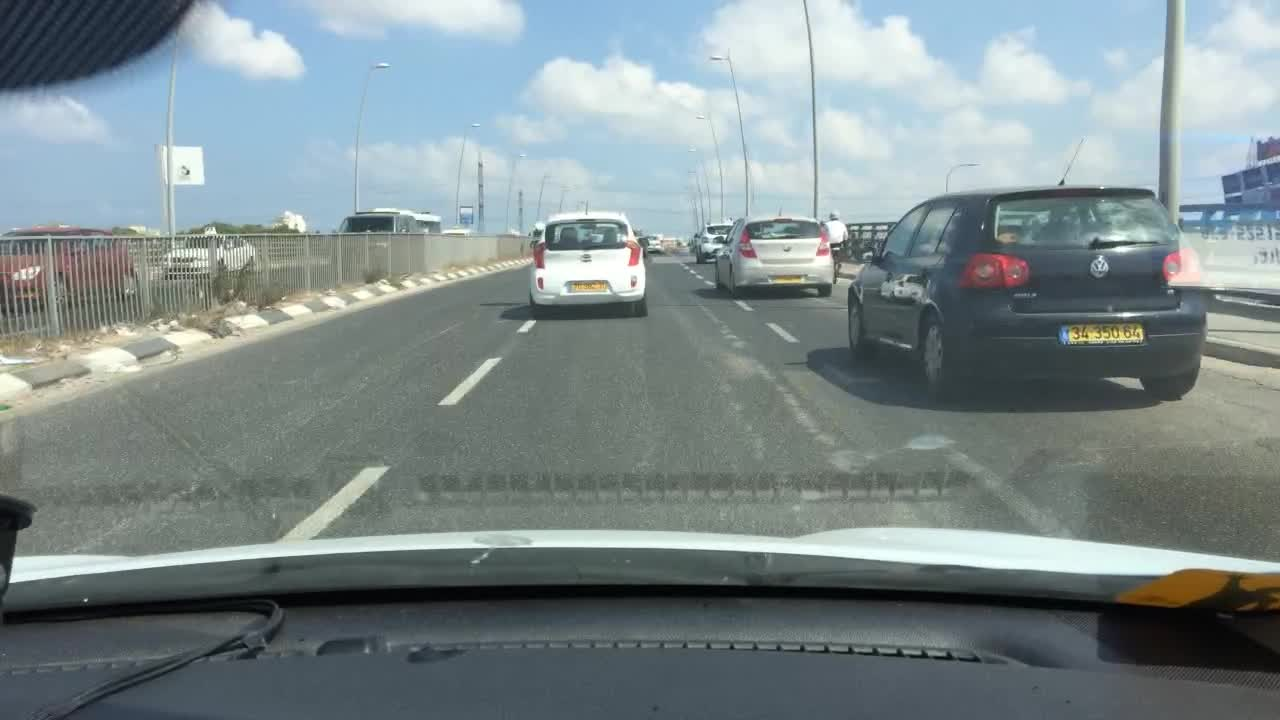car: (845, 187, 1210, 398), (528, 211, 648, 317), (0, 224, 144, 303), (711, 217, 836, 298), (161, 228, 257, 281), (693, 218, 735, 265), (645, 235, 662, 254), (444, 227, 468, 235)
motor: (832, 247, 841, 282)
rider: (826, 208, 847, 249)
traffic sign: (157, 145, 205, 186)
truck: (336, 207, 440, 240)
